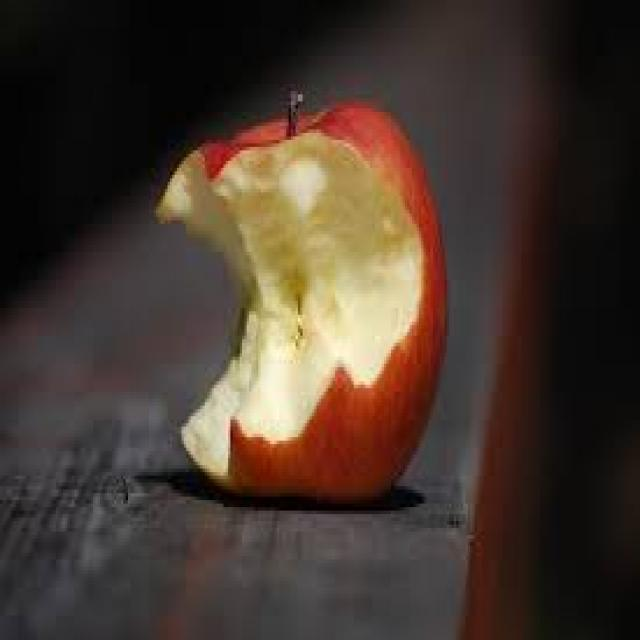Apple: (153, 96, 452, 501)
